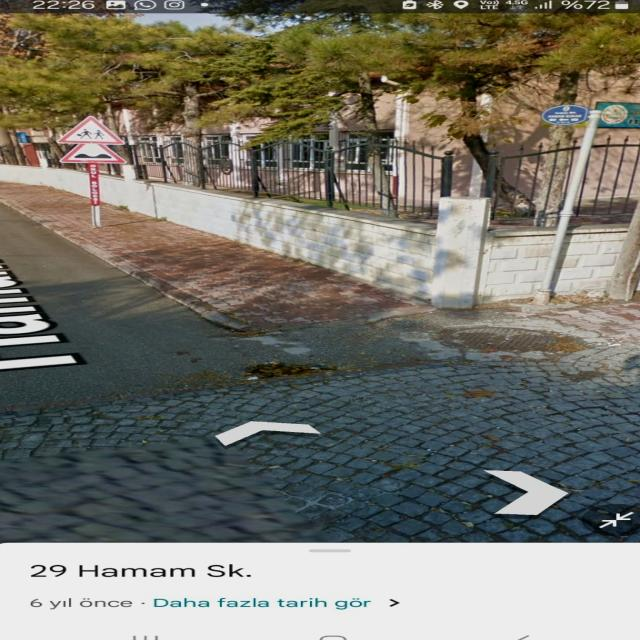okul_gecidi: (57, 116, 125, 144)
